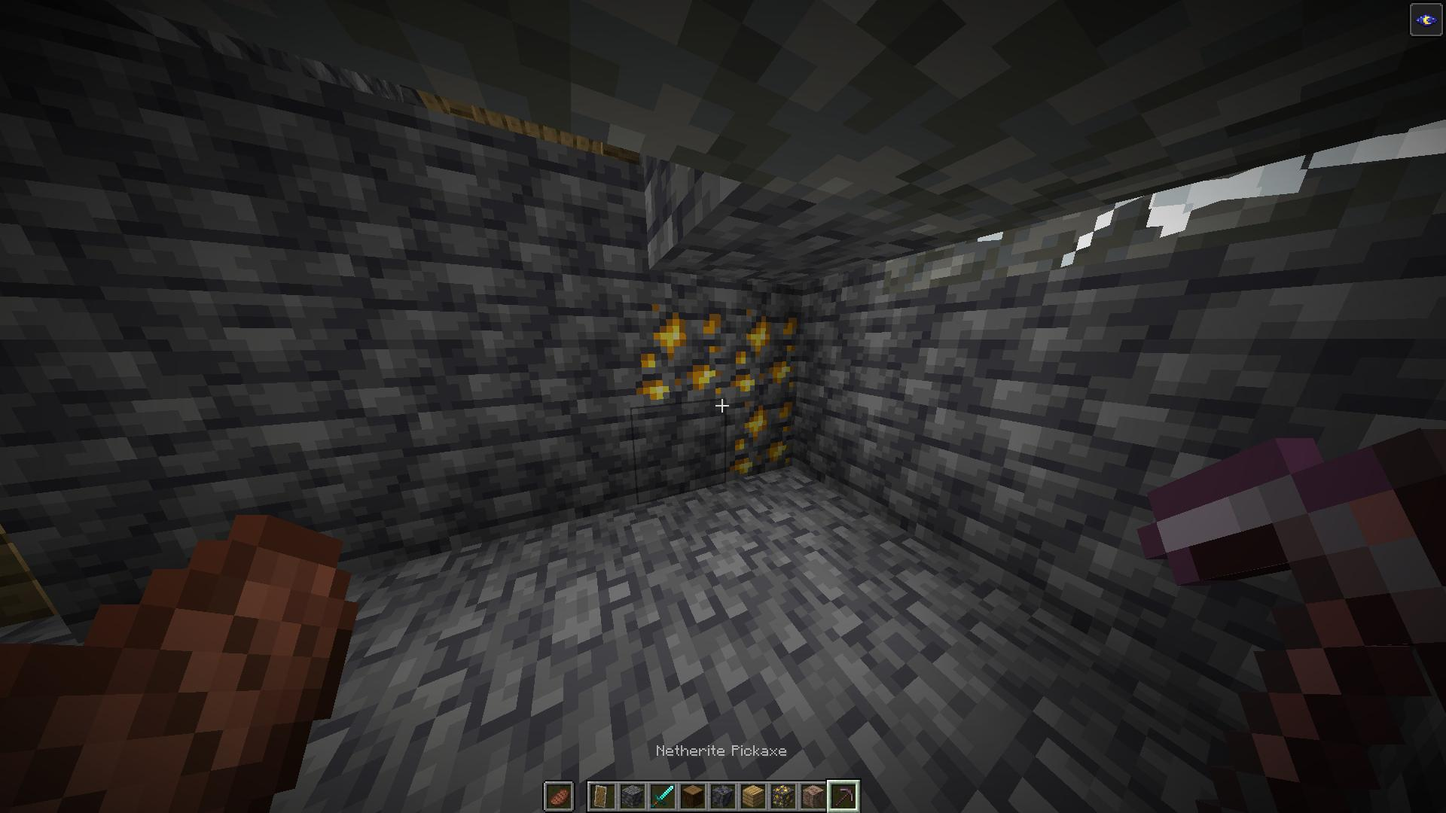gold ore: (630, 306, 724, 408), (720, 306, 803, 406), (725, 396, 798, 475)
